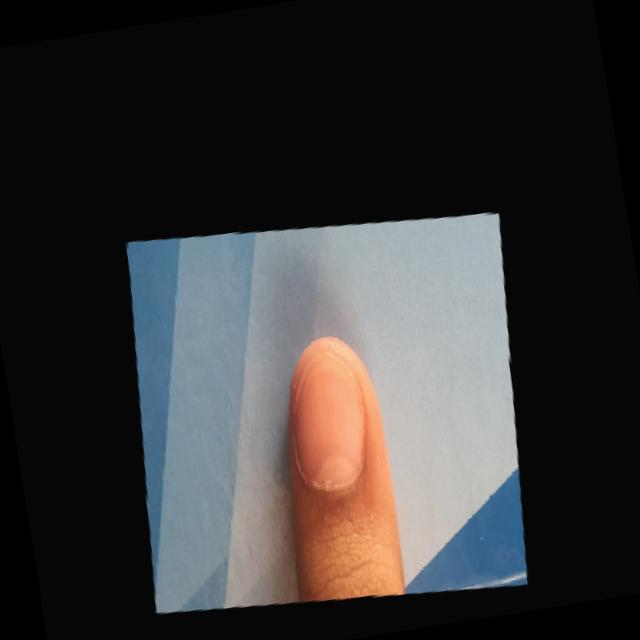Nail: (291, 349, 366, 486)
